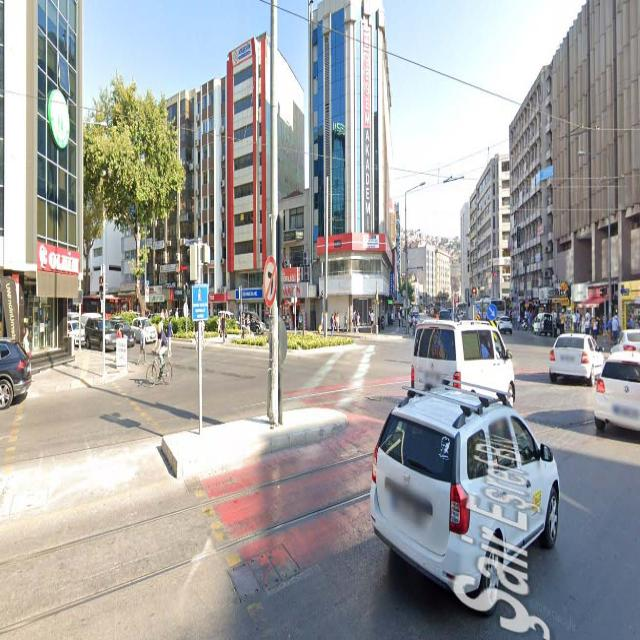soladonulmez: (262, 256, 277, 305)
